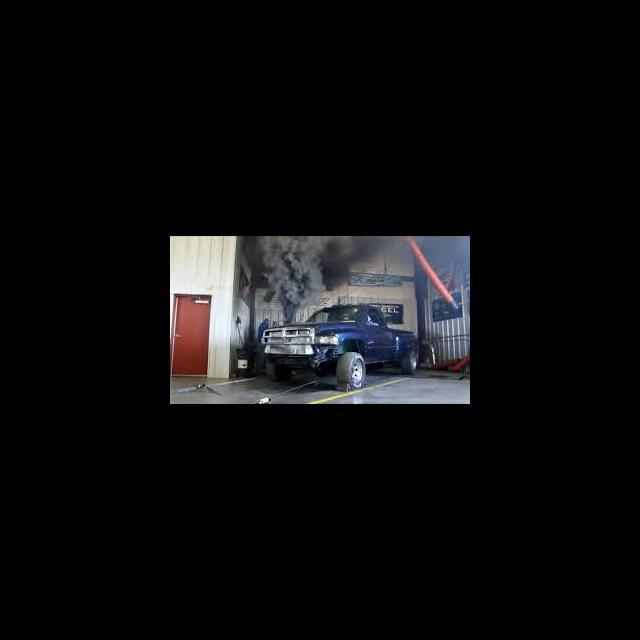Smoke: (256, 236, 378, 322)
